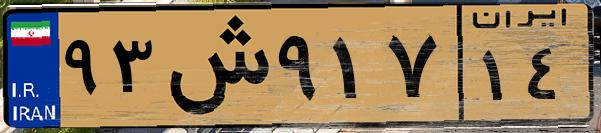1: (330, 28, 385, 110), (475, 38, 525, 113)
3: (110, 28, 158, 98)
4: (525, 38, 570, 115)
7: (385, 28, 445, 110)
9: (270, 28, 330, 110), (57, 26, 110, 100)
ش: (158, 12, 270, 120)
